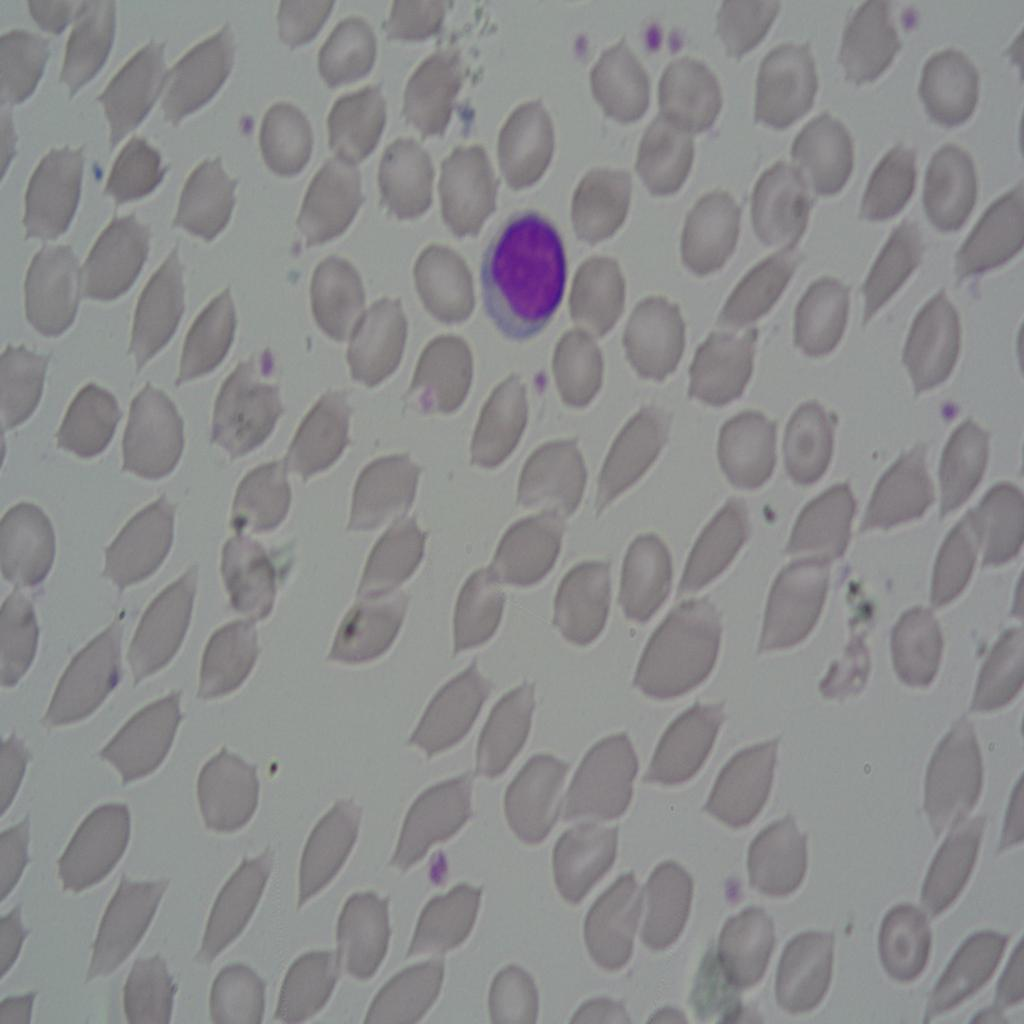Myeoblast: (475, 192, 577, 344)
Platelet: (561, 6, 604, 72), (231, 99, 268, 161), (934, 382, 968, 447), (246, 328, 280, 388), (528, 352, 567, 401), (413, 368, 441, 429), (422, 839, 453, 894), (84, 150, 118, 198), (638, 4, 667, 54), (452, 96, 485, 139), (897, 0, 927, 44), (720, 867, 749, 907), (669, 30, 687, 61)
